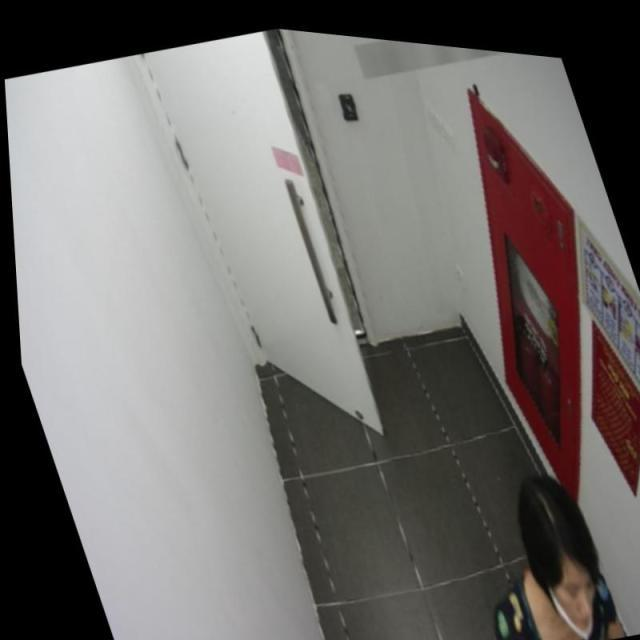hairnet: (538, 556, 604, 634)
